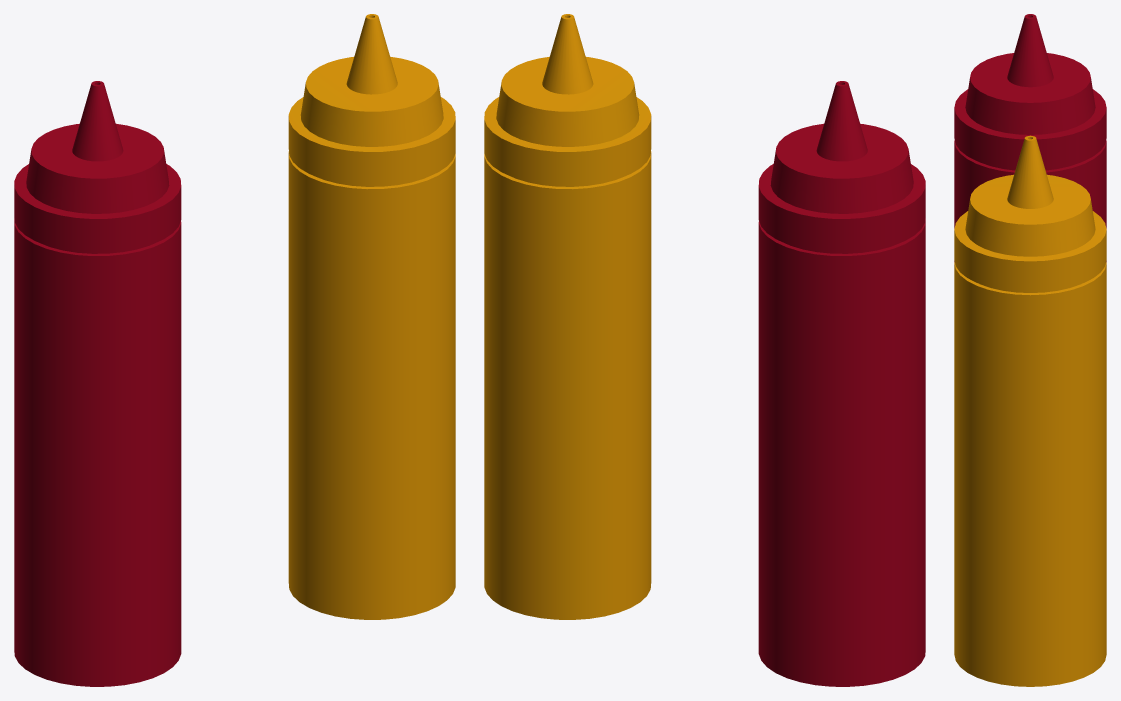
File: Ketchup_and_Mustard.glb
3 renders of one model, left to right at view 1: azimuth 30°, elevation 25°; view 2: azimuth 150°, elevation 25°; view 3: azimuth 270°, elevation 25°, orthographic. The views are drawn at different scales.
Parts seen in each view (by area): view 1: Mustard_29, Ketchup_28; view 2: Mustard_29, Ketchup_28; view 3: Mustard_29, Ketchup_28.
Boxes of the visible parts, x1,y1,x2,y2 form: Mustard_29: (288,14,455,619); Ketchup_28: (14,81,181,686); Mustard_29: (484,14,651,619); Ketchup_28: (758,81,925,686); Mustard_29: (954,135,1106,686); Ketchup_28: (954,14,1106,262).
Bounding box in the file's own units: 232 × 300 × 80.11.
Materials: 1 (1 with a texture image).
